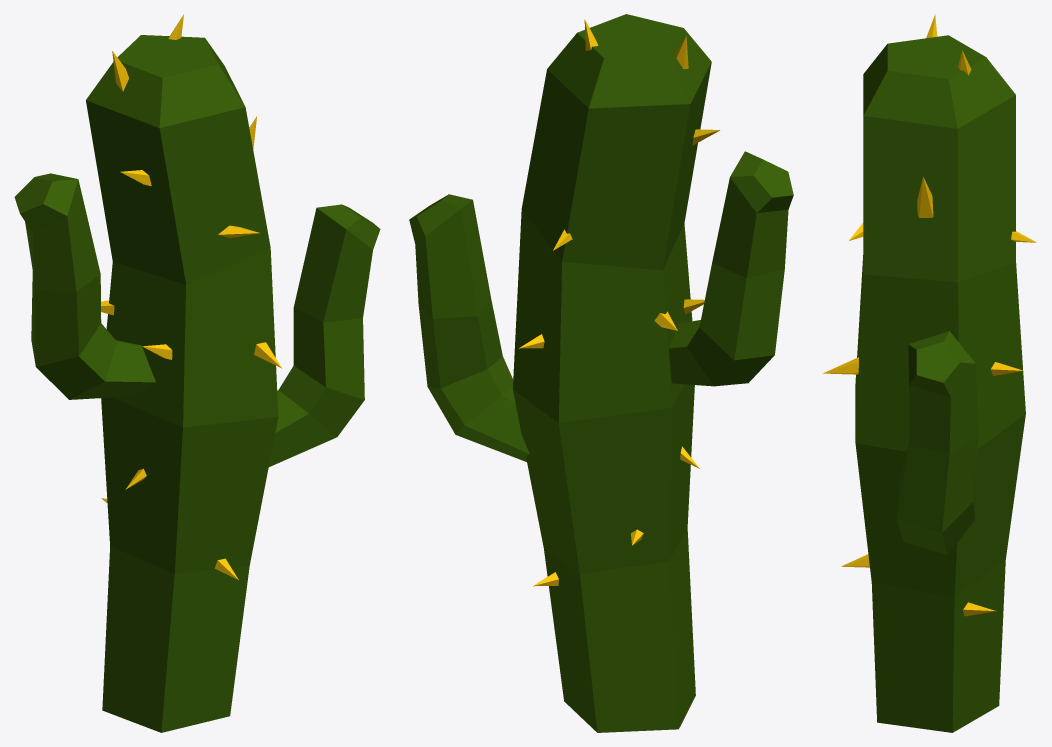
Rendered from WildWest_Figur_Rook.fbx.
3 views of the same model, side by side, from view 1: azimuth 30°, elevation 25°; view 2: azimuth 150°, elevation 25°; view 3: azimuth 270°, elevation 25° (orthographic). The views are drawn at different scales.
Visible parts, largest first — view 1: cactus; view 2: cactus; view 3: cactus.
Part boxes in pixels (box(x1,y1,x2,y2)): cactus: box(14, 14, 380, 732); cactus: box(409, 14, 793, 732); cactus: box(823, 14, 1036, 732).
Size of the model in its own units: 496 by 877 by 255.
